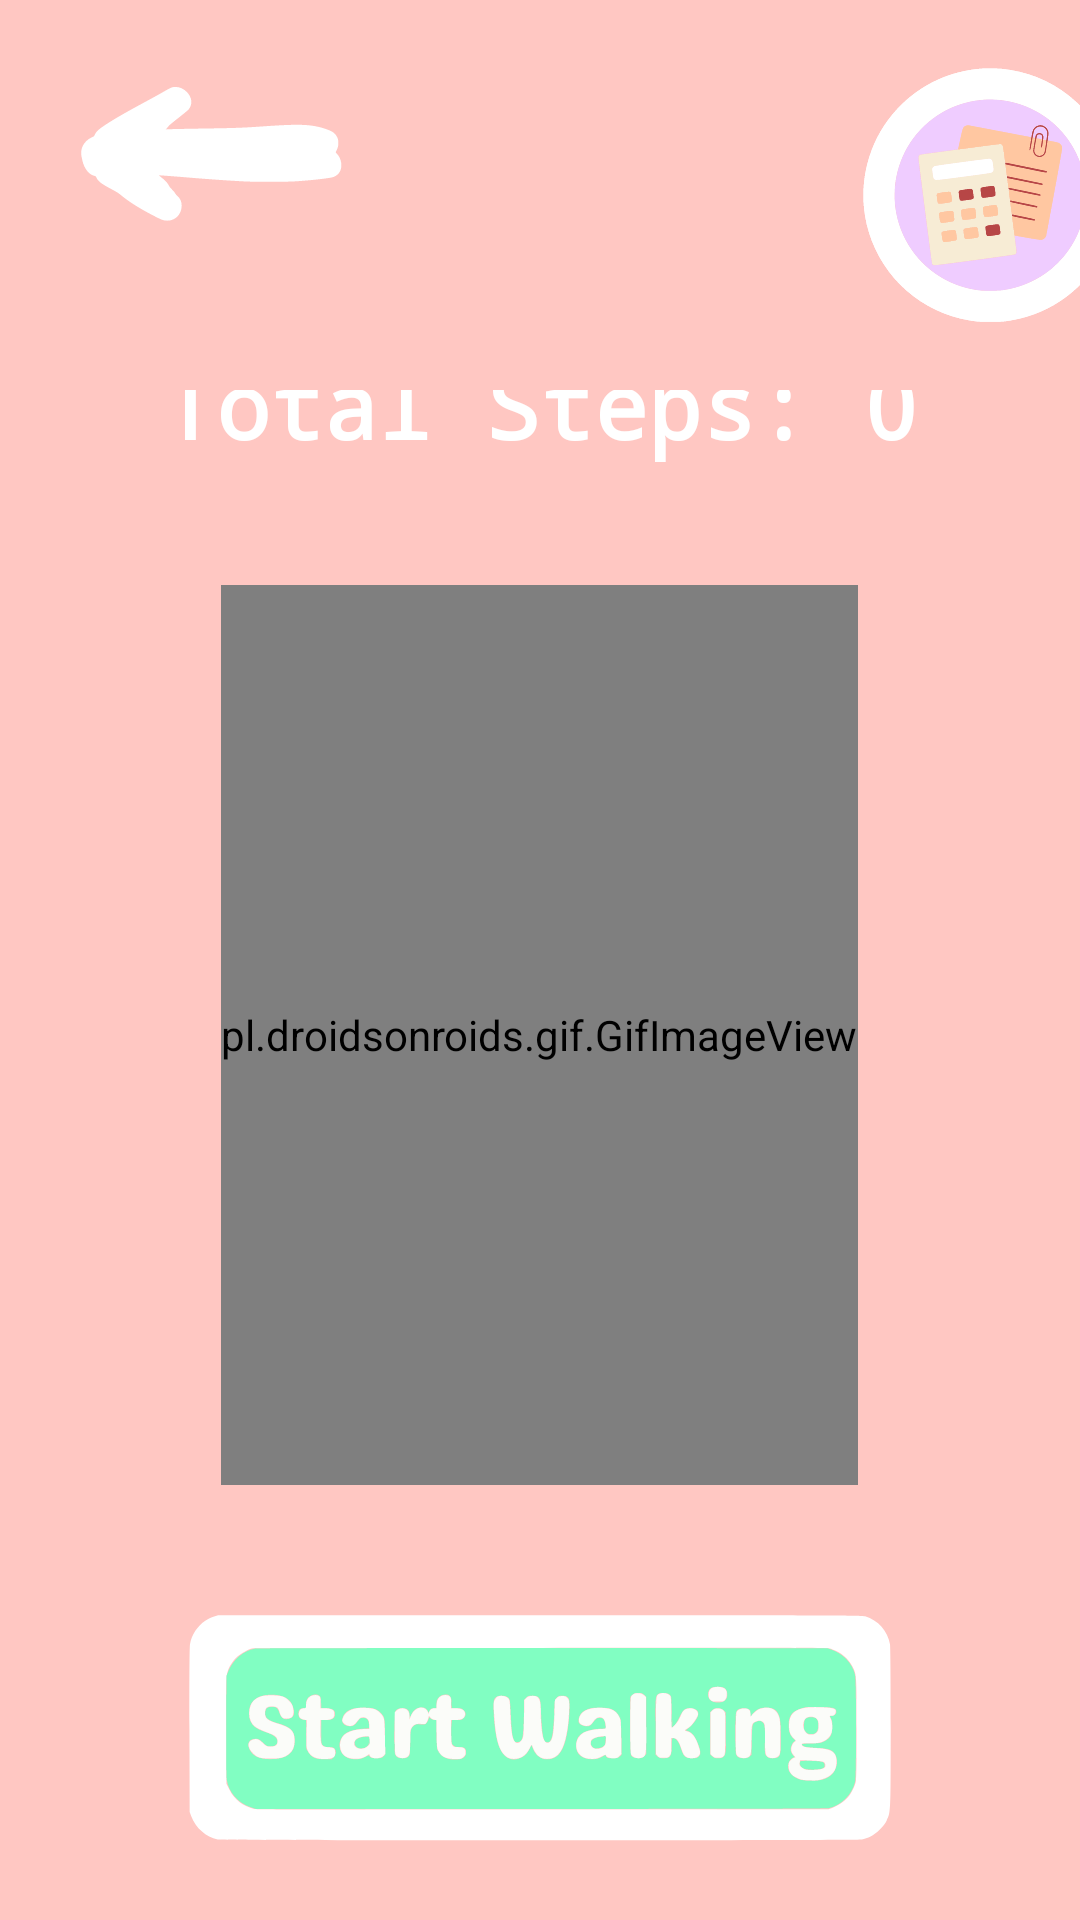

Locate icon controls on the screen. Image size 1080w x 1920h, boxes as (x1,y1,x2,y2).
backarrow: (81,87,341,221)
